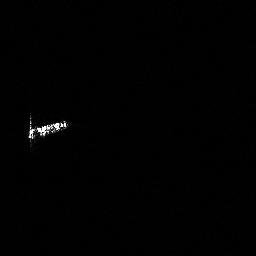ship: (23, 110, 73, 147)
